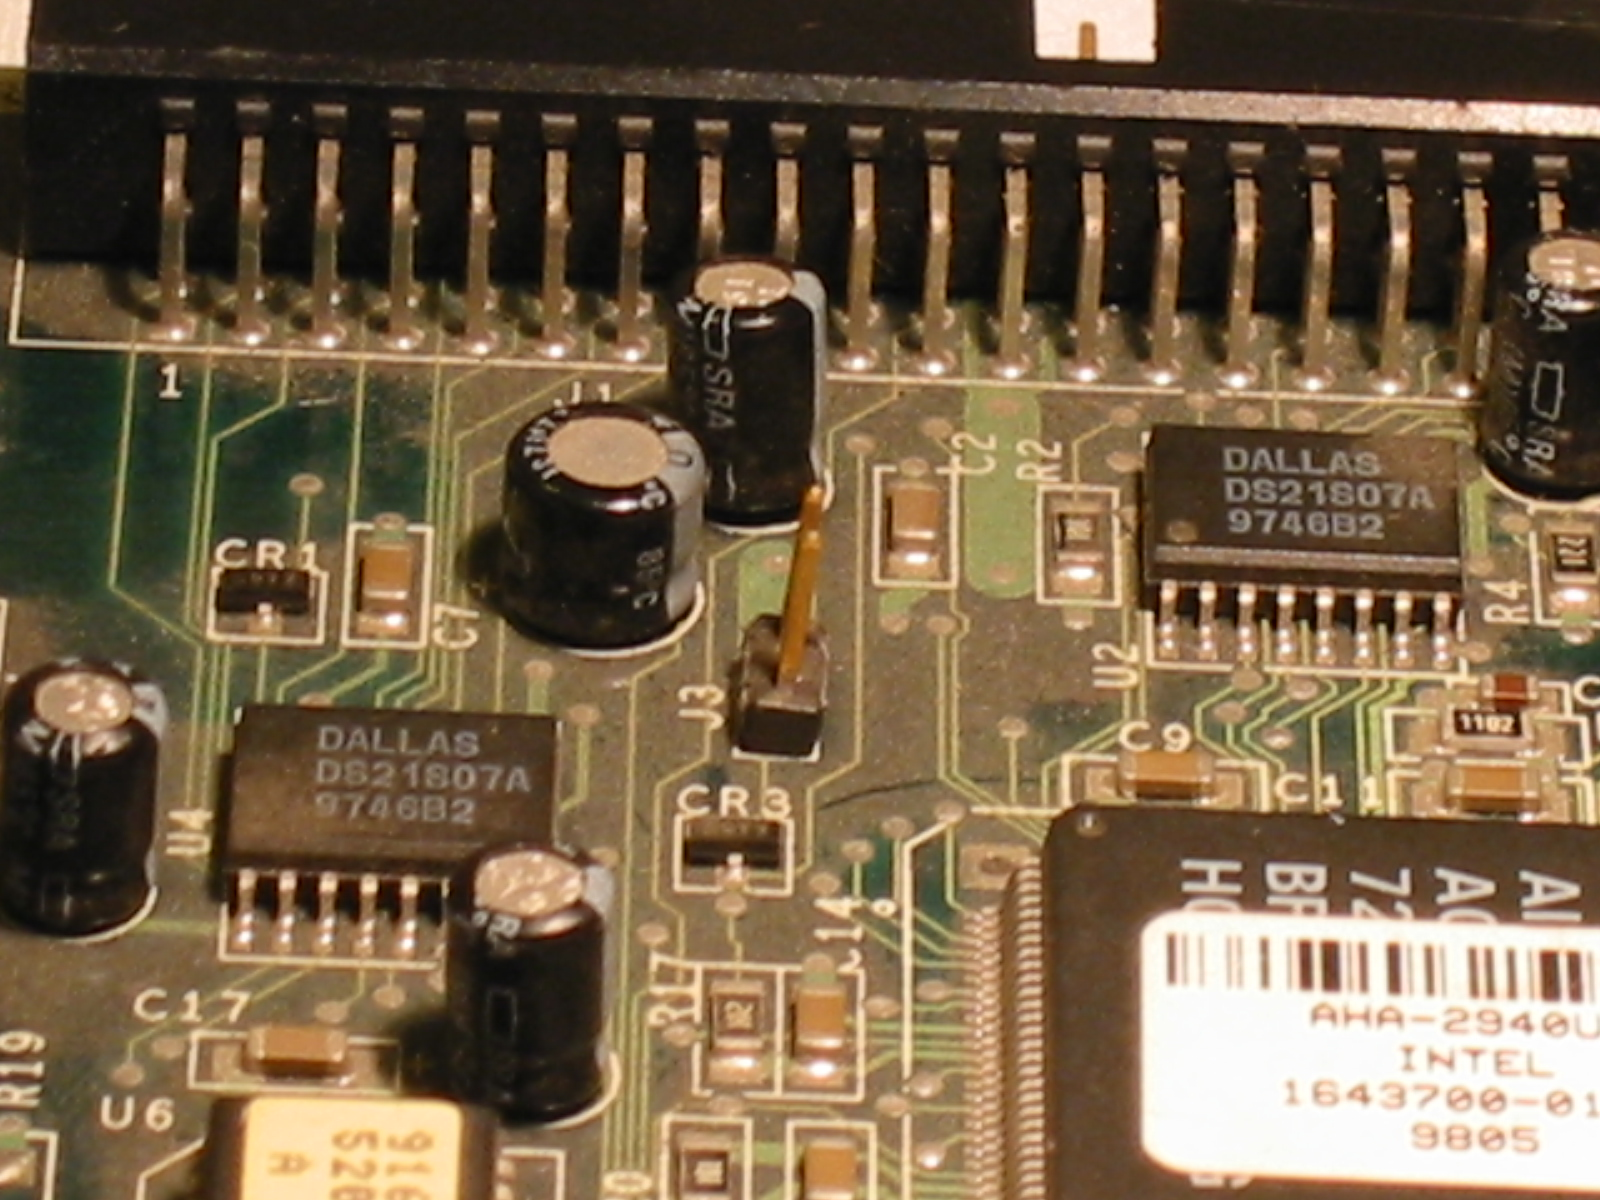Capacitor: (491, 398, 709, 661), (436, 838, 626, 1132), (1, 648, 168, 943), (661, 252, 831, 533), (1464, 216, 1600, 507)
